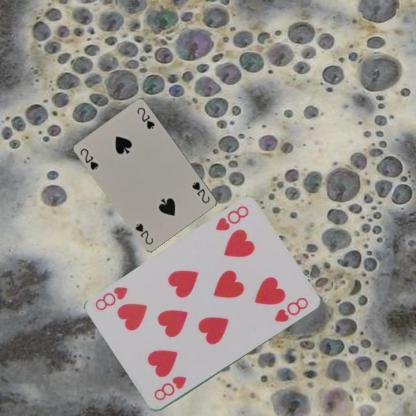2s: (190, 179, 212, 205), (78, 146, 100, 171)
8h: (151, 373, 188, 403), (213, 203, 250, 233)
